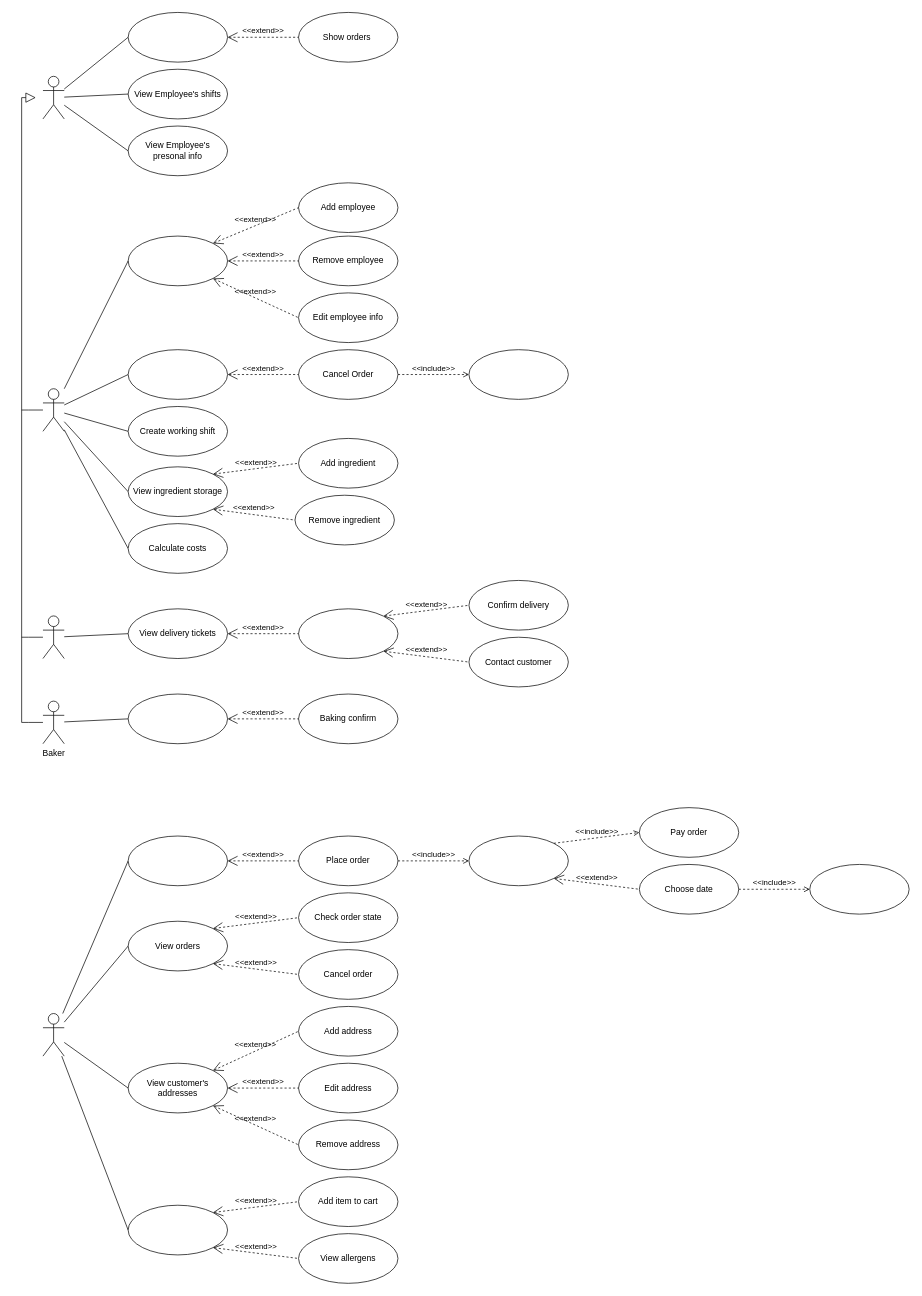
Some shapes in this 922 by 1296 pixel diagram are drawn without their labels. The box of each missing label's shape, as (x1, y1, x2, y2) in pixels:
Choose delivery option: (468, 835, 568, 886)
Choose time: (809, 864, 909, 914)
Courier: (42, 615, 64, 659)
Customer: (42, 1013, 64, 1056)
Employee: (42, 76, 64, 119)
Manager: (42, 388, 64, 431)
Return of funds: (468, 349, 568, 399)
Show shopping cart: (127, 835, 228, 886)
View available assortment: (127, 1205, 228, 1255)
View employee roster: (127, 235, 228, 286)
View Oreders: (127, 349, 228, 399)
View ticket info: (298, 608, 398, 659)
View unbaked orders: (127, 693, 228, 744)
View working shifts: (127, 12, 228, 62)
